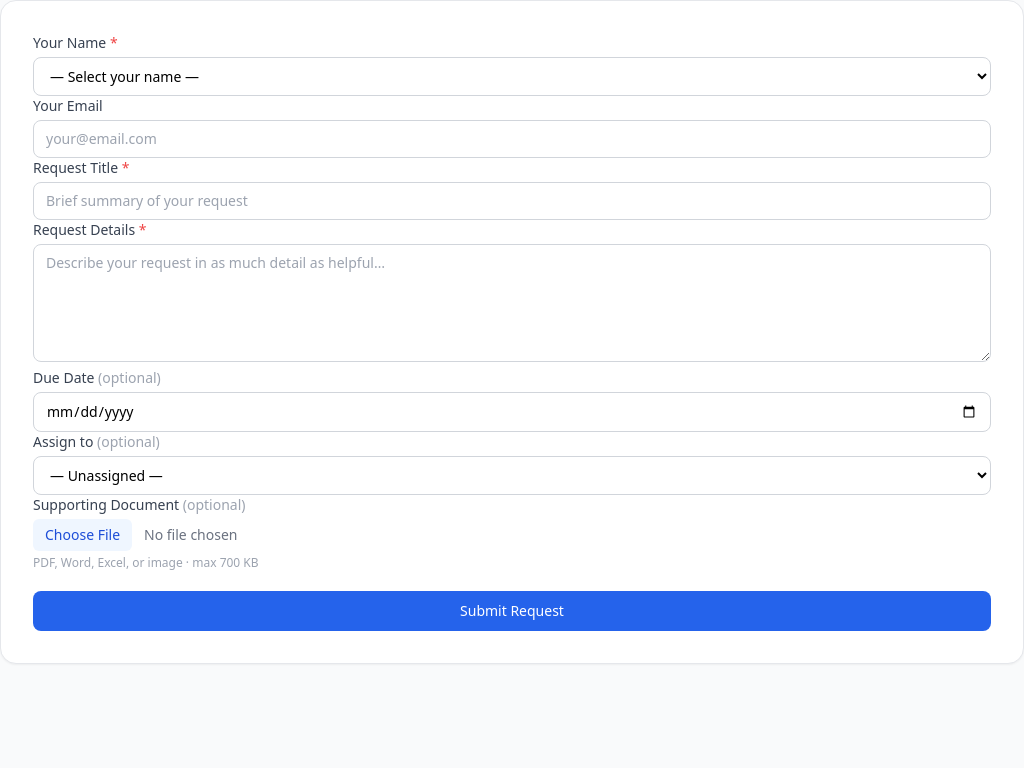
IntakeForm — validation › blocks submission and shows errors when required fields are empty
Click the button "Submit Request" at (512, 611), box [33,591,991,631]
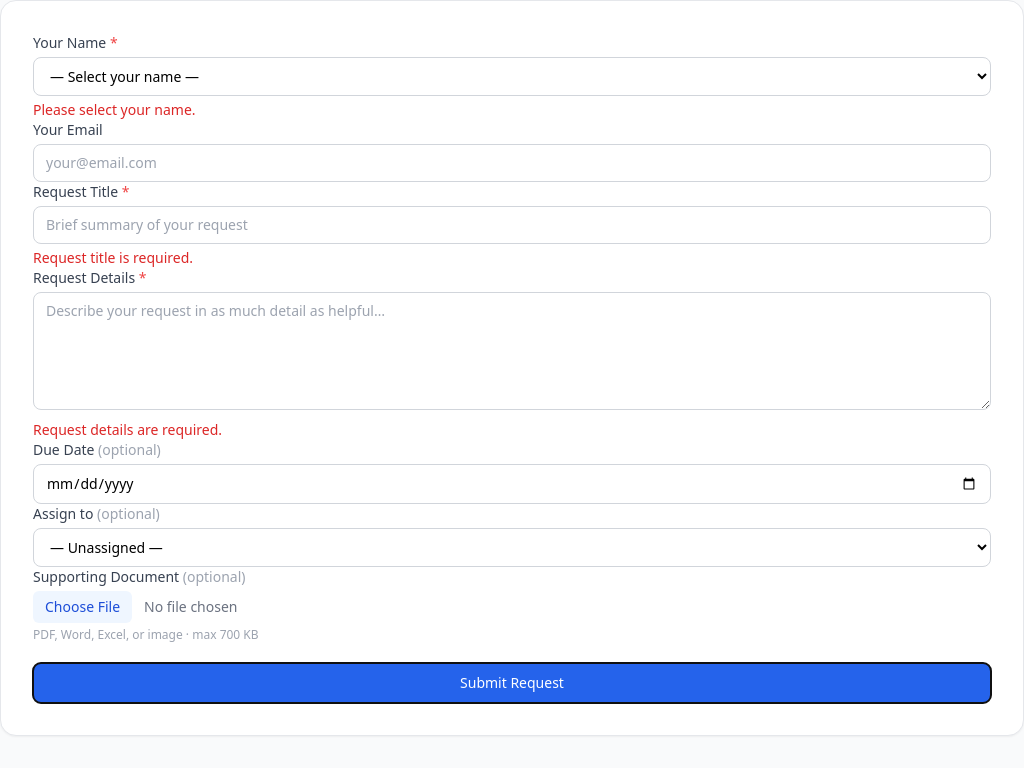
expect the text "Please select your name." is shown: met, box [33,100,196,119]
expect the text "Request title is required." is shown: met, box [33,248,193,267]
expect the text "Request details are required." is shown: met, box [33,420,222,439]
